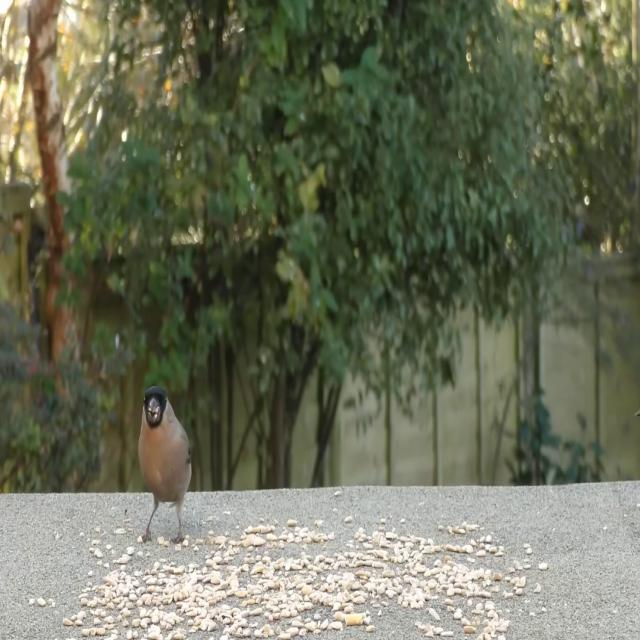beak: (146, 397, 160, 422)
bird: (136, 384, 193, 549)
